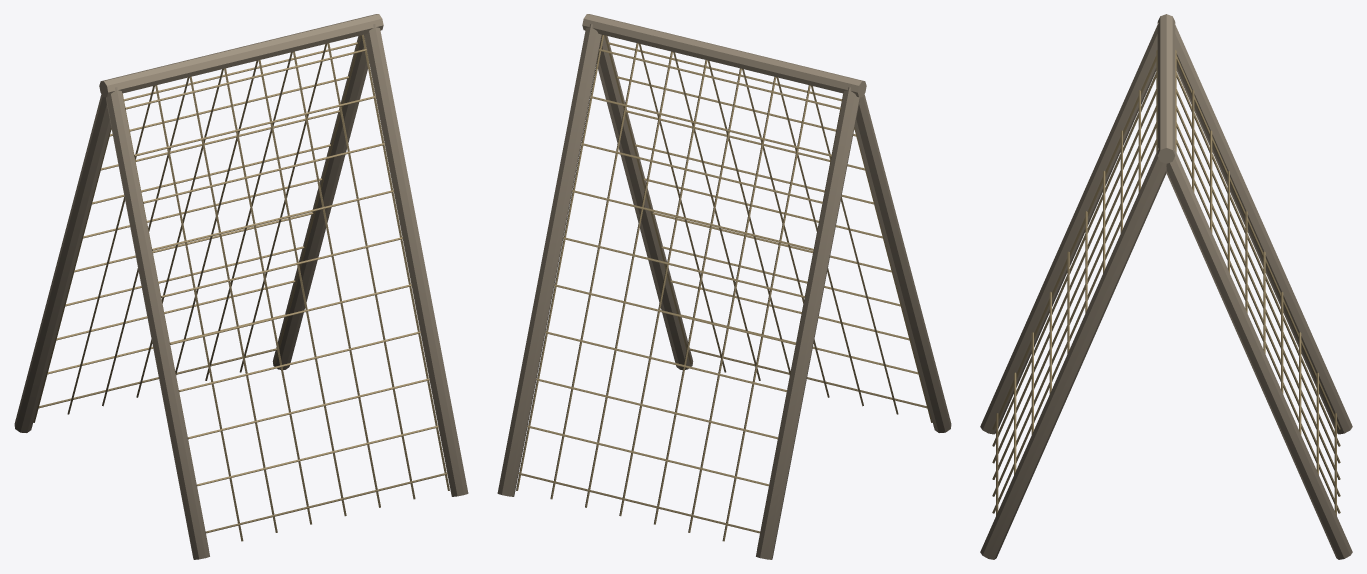
Rendered from obstacle_net.glb.
The picture shows the model from 3 angles, left to right: view 1: azimuth 30°, elevation 25°; view 2: azimuth 150°, elevation 25°; view 3: azimuth 270°, elevation 25°; orthographic projection.
Parts seen in each view (by area): view 1: obstacle_net_LOD0; view 2: obstacle_net_LOD0; view 3: obstacle_net_LOD0.
Part boxes in pixels (<box>): obstacle_net_LOD0: <box>14,14,468,559</box>; obstacle_net_LOD0: <box>497,14,951,559</box>; obstacle_net_LOD0: <box>980,14,1352,559</box>.
Size of what is drawn, in the model's own units: 3.2 by 4.62 by 3.77.
